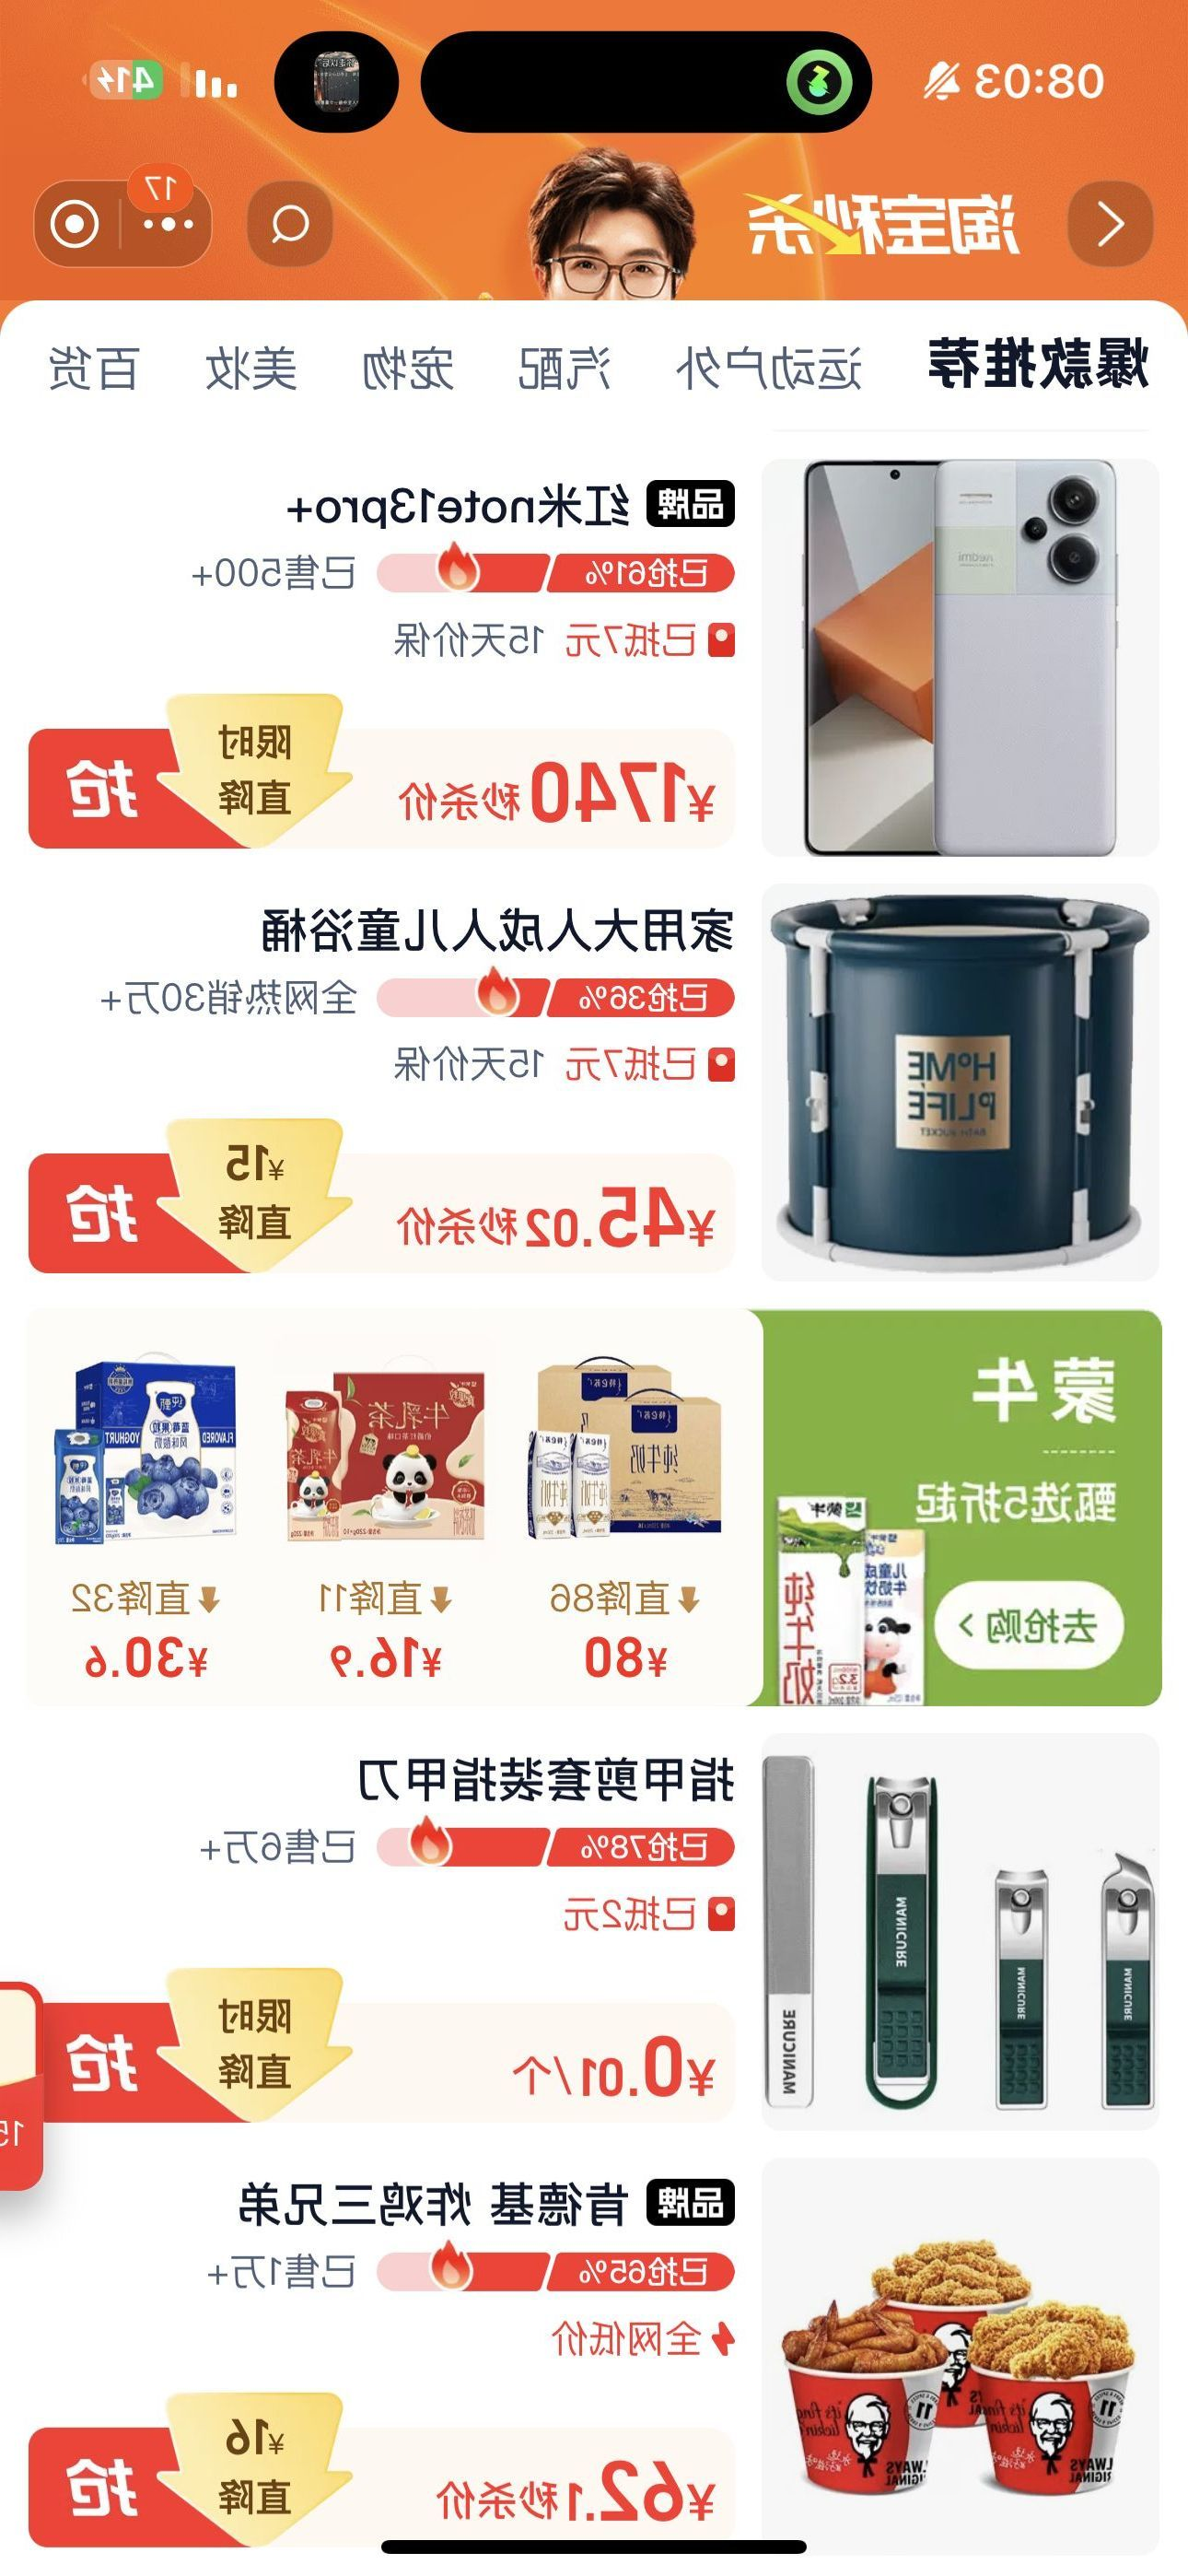banner: (13, 1303, 1178, 1722)
item: (13, 432, 1167, 876), (13, 2142, 1188, 2566), (16, 884, 1170, 1293), (16, 1735, 1178, 2137)
op_bar: (13, 148, 1183, 289)
